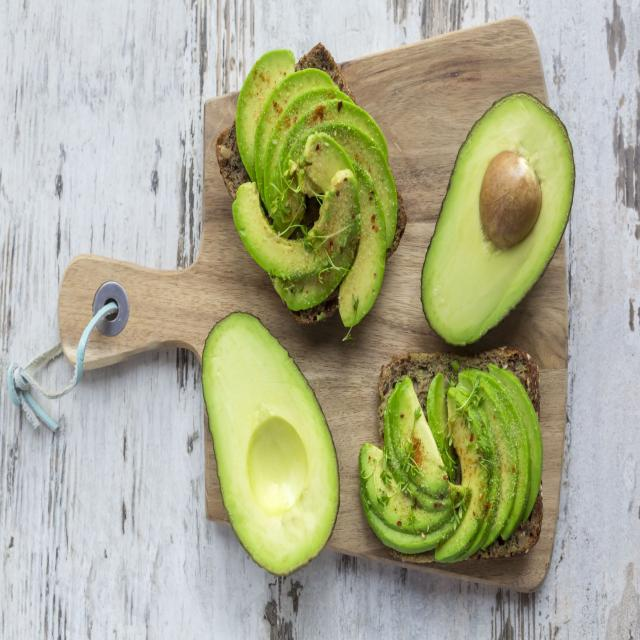aguacate: (221, 44, 401, 337), (406, 83, 578, 350), (191, 308, 349, 584)
